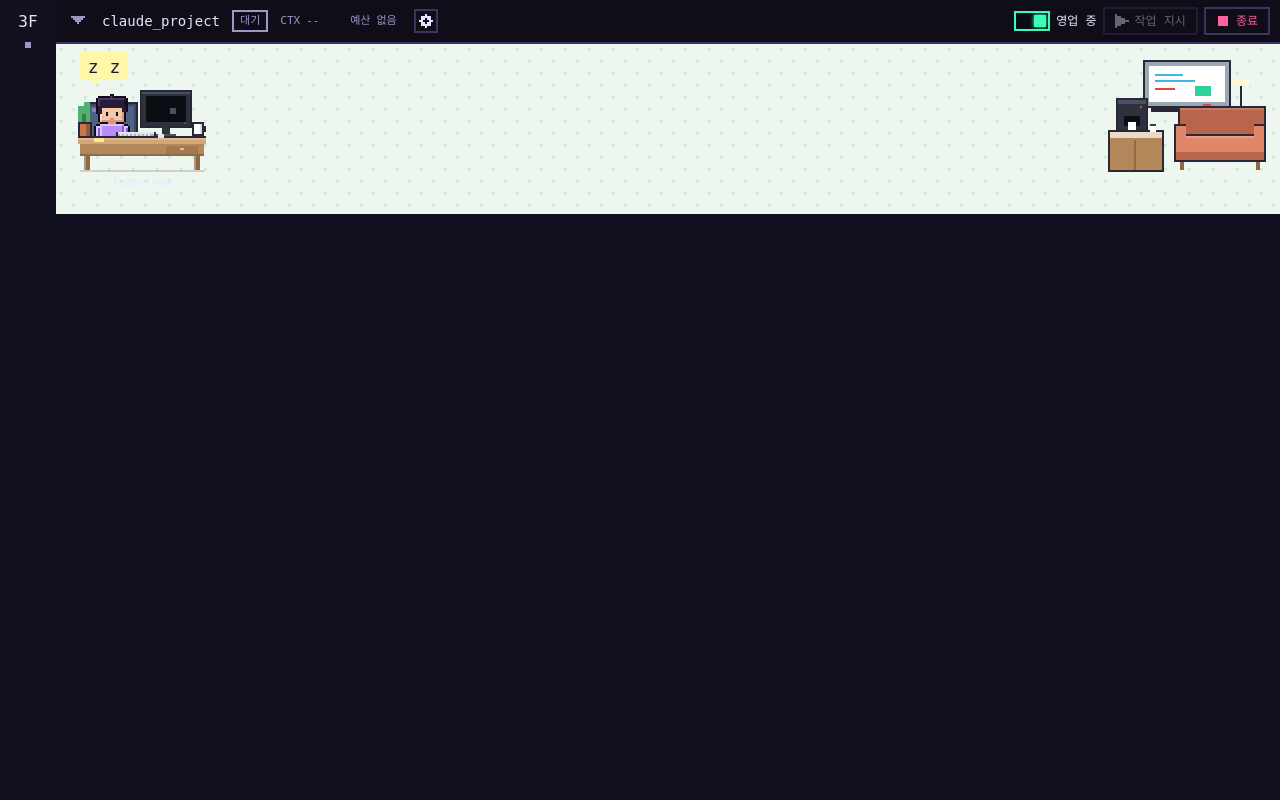
Test case: 설정 창(§6.2) › 저장 실패면 창을 닫지 않고 안내한다
This screenshot has width=1280, height=800.
Click the button named "claude_project 예산 설정" at (426, 21), box [414,9,438,33]
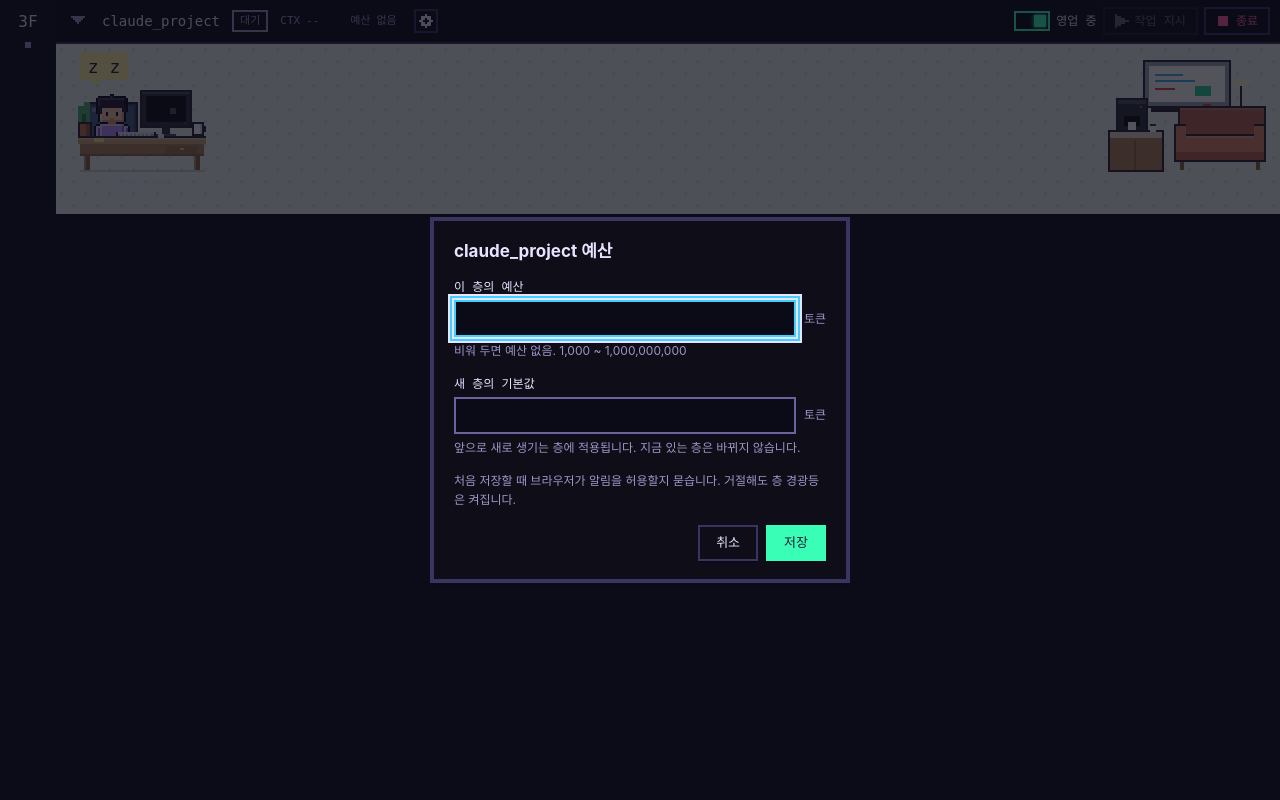
Type "5000" into the field labelled "이 층의 예산" at (625, 319), box [454,300,796,337]
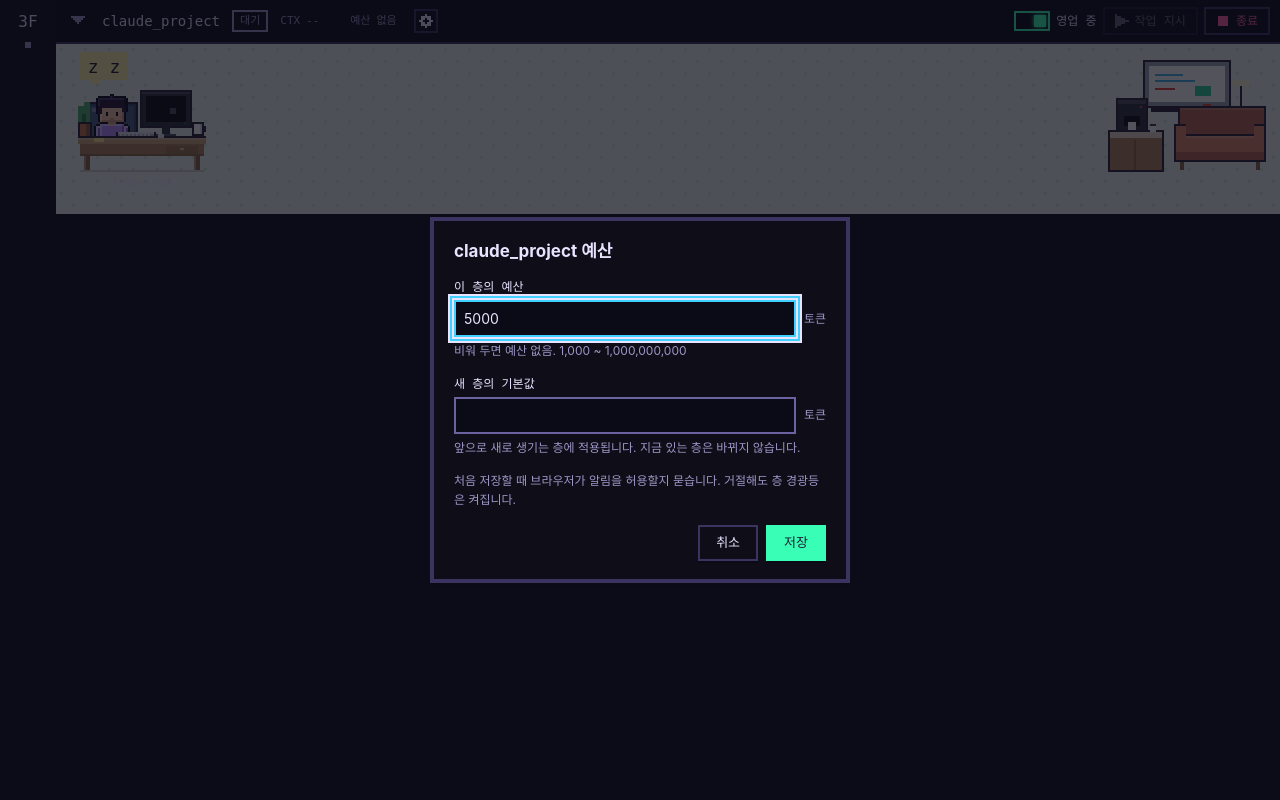
Click the button "저장" at (796, 543), box [766,525,826,561]
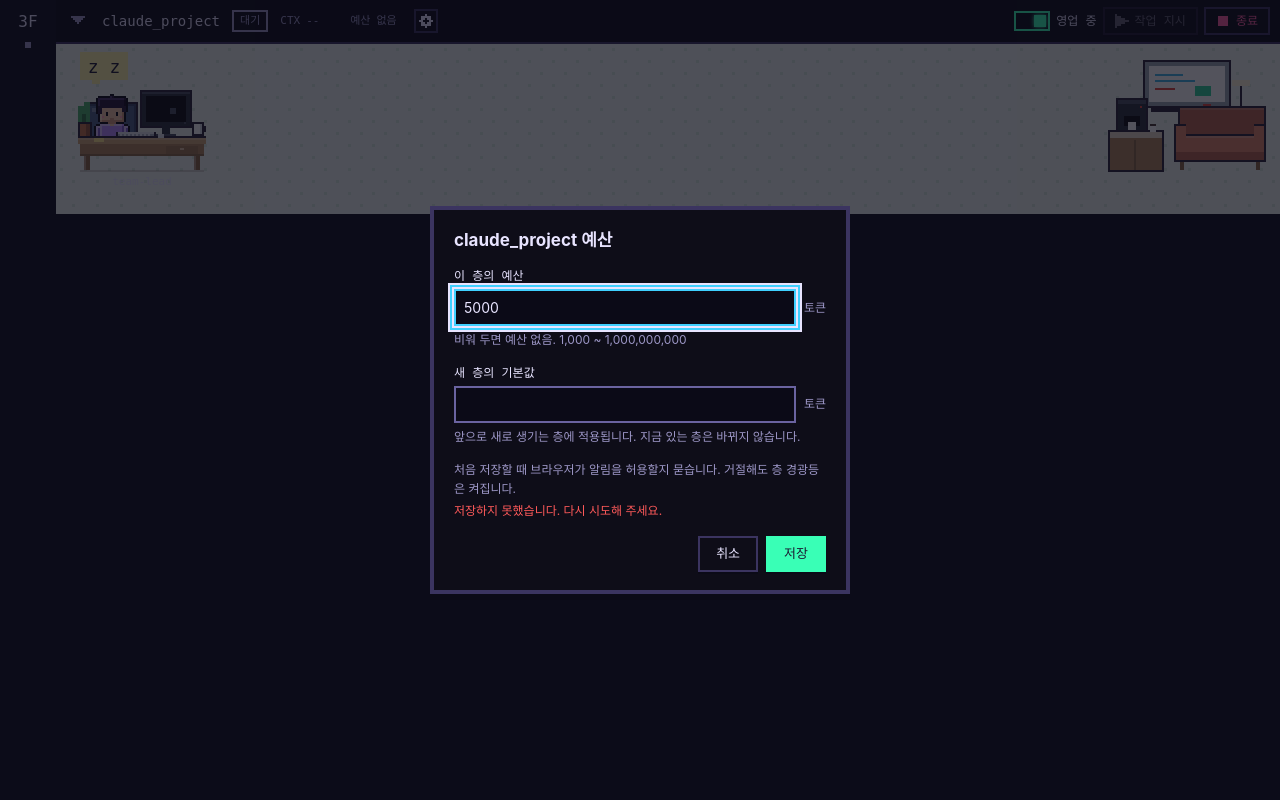
Check: the dialog is shown, box [430,206,850,594]
Check: the message reads "저장하지 못했습니다. 다시 시도해 주세요.", box [454,503,662,518]
